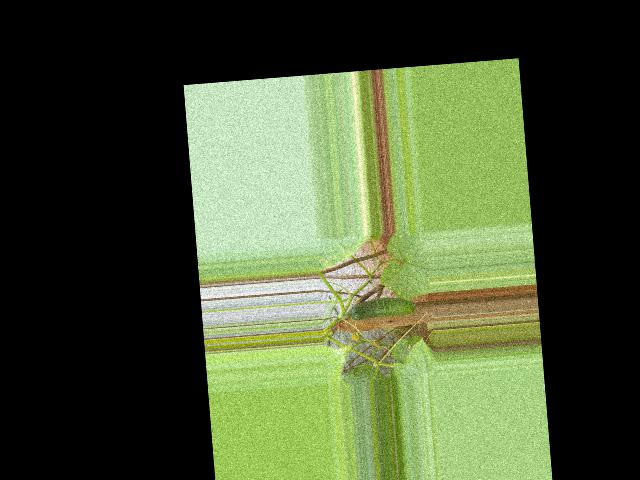cucumber: (348, 295, 416, 321)
